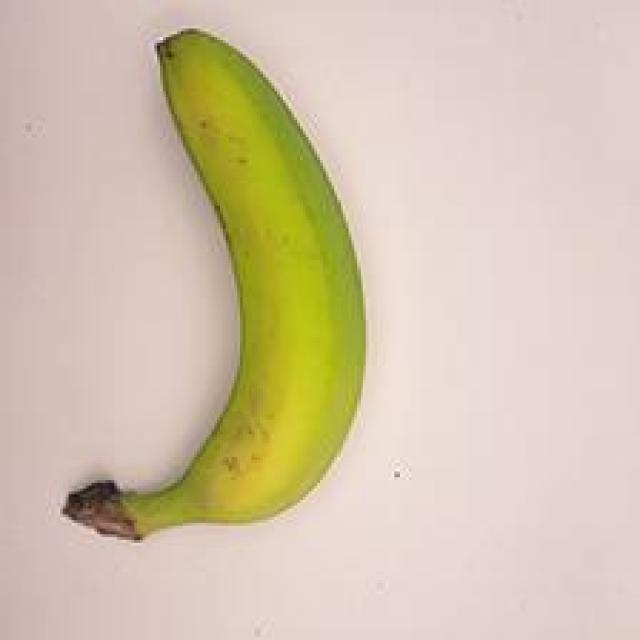Unripe: (23, 21, 390, 568)
